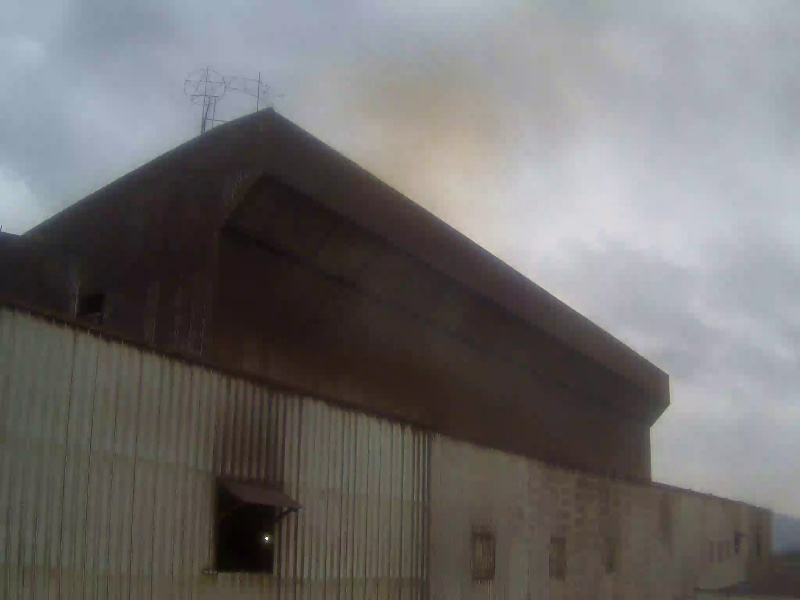bom: (640, 74, 800, 396), (3, 7, 270, 122)
ruim: (303, 48, 509, 207)
